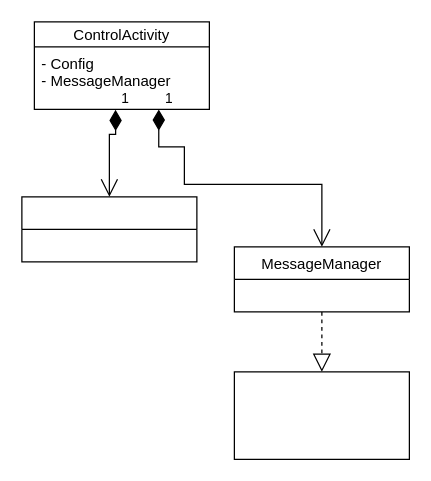
Image size: 431x481. Some labels were removed from this diagram. Here are the shapes that lost their labels. From the top down, the centre of each, then its label:
At point (109, 229): "Config".
At point (321, 415): "<<Interface>> Listener + onReceive(Message)".
